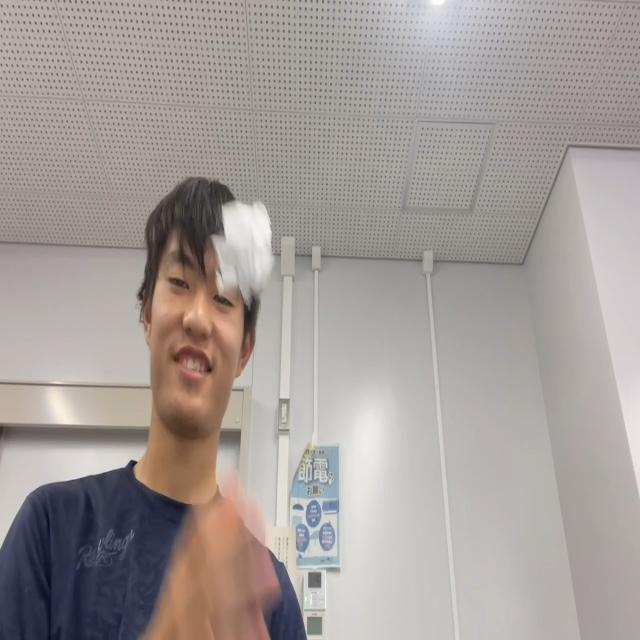paper: (209, 198, 273, 308)
